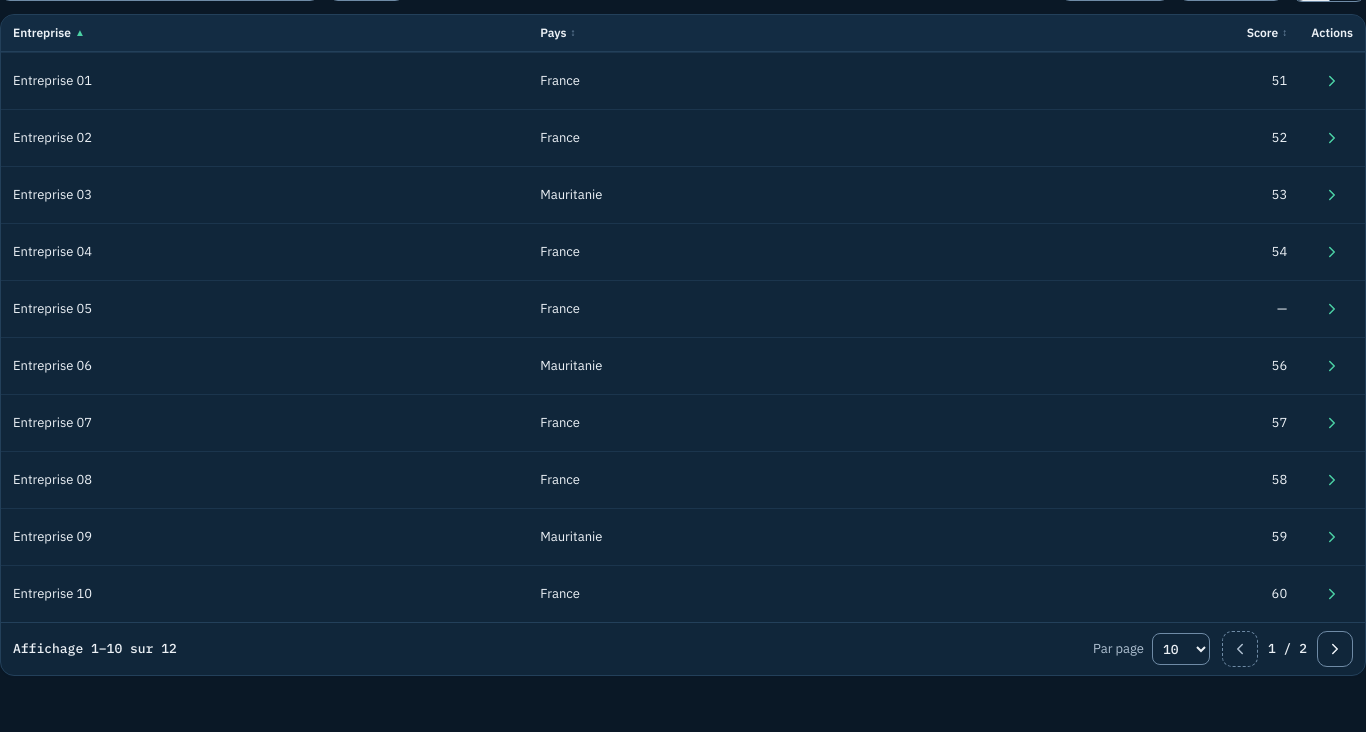
Test: DataTable › un seul compteur, en pied : plage sur plusieurs pages, total sur une page
Expected: the text "Affichage 1–10 sur 12" is shown, [13,639,177,659]
Click the button named "Page suivante".
click(1335, 649)  # box [1317,631,1353,667]
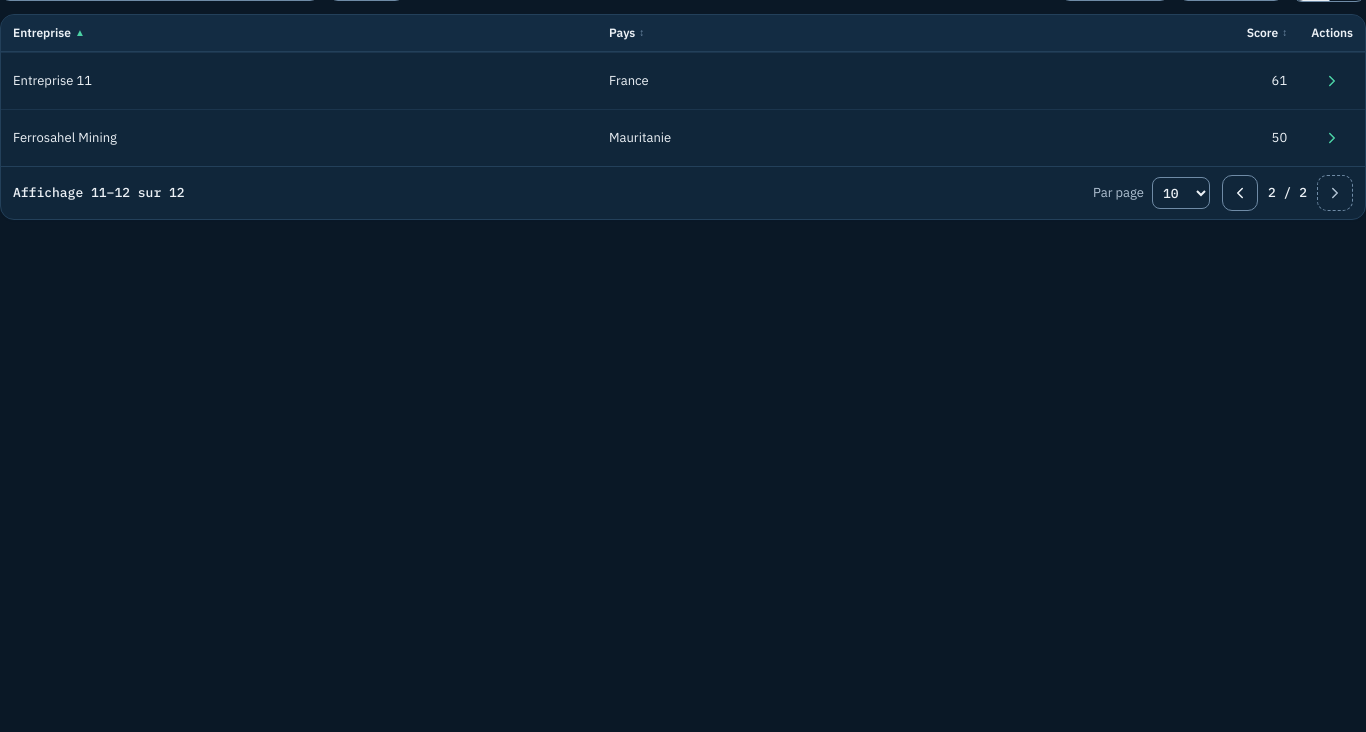
Result: the text "Affichage 11–12 sur 12" is shown at [13,183,185,203]
Select "25" in the dropdown labelled "Par page" at (1181, 193), box [1152,177,1210,209]
(page scrolled)
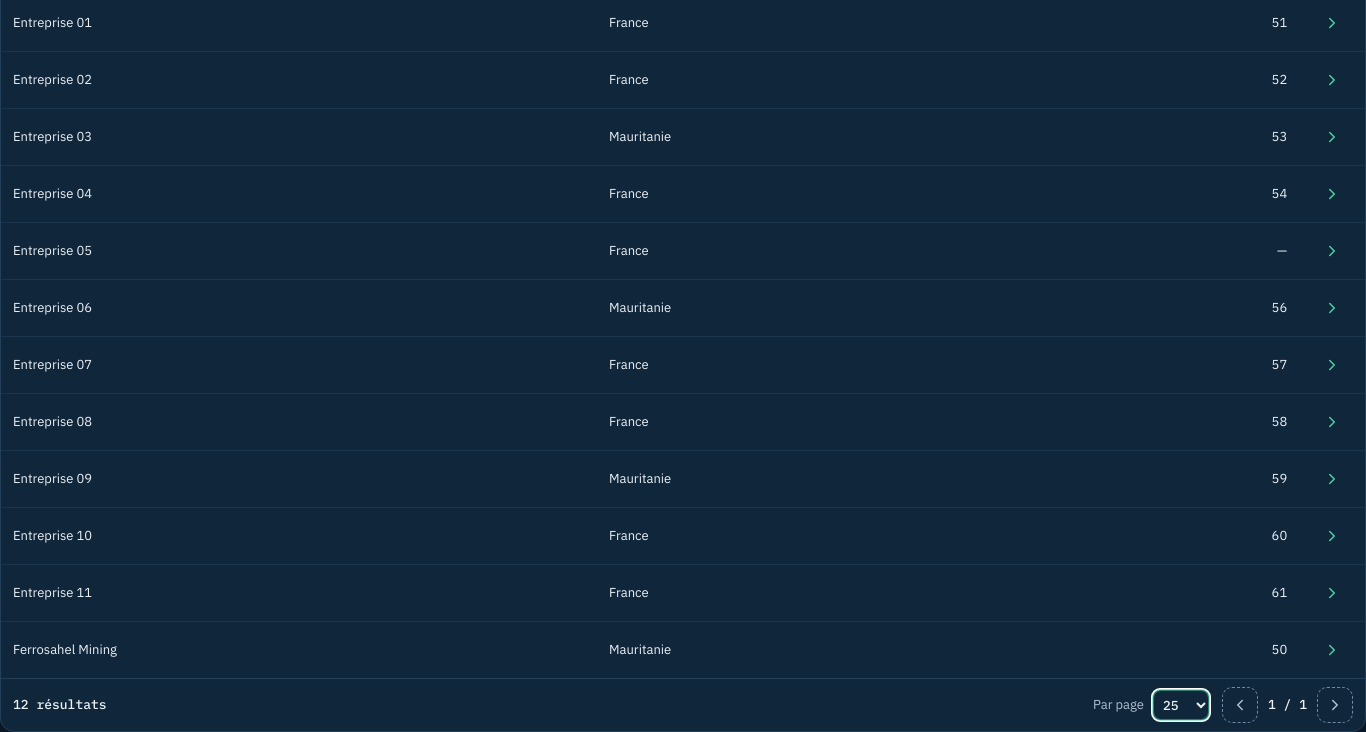
Result: the text "12 résultats" is shown at [13,695,107,715]
